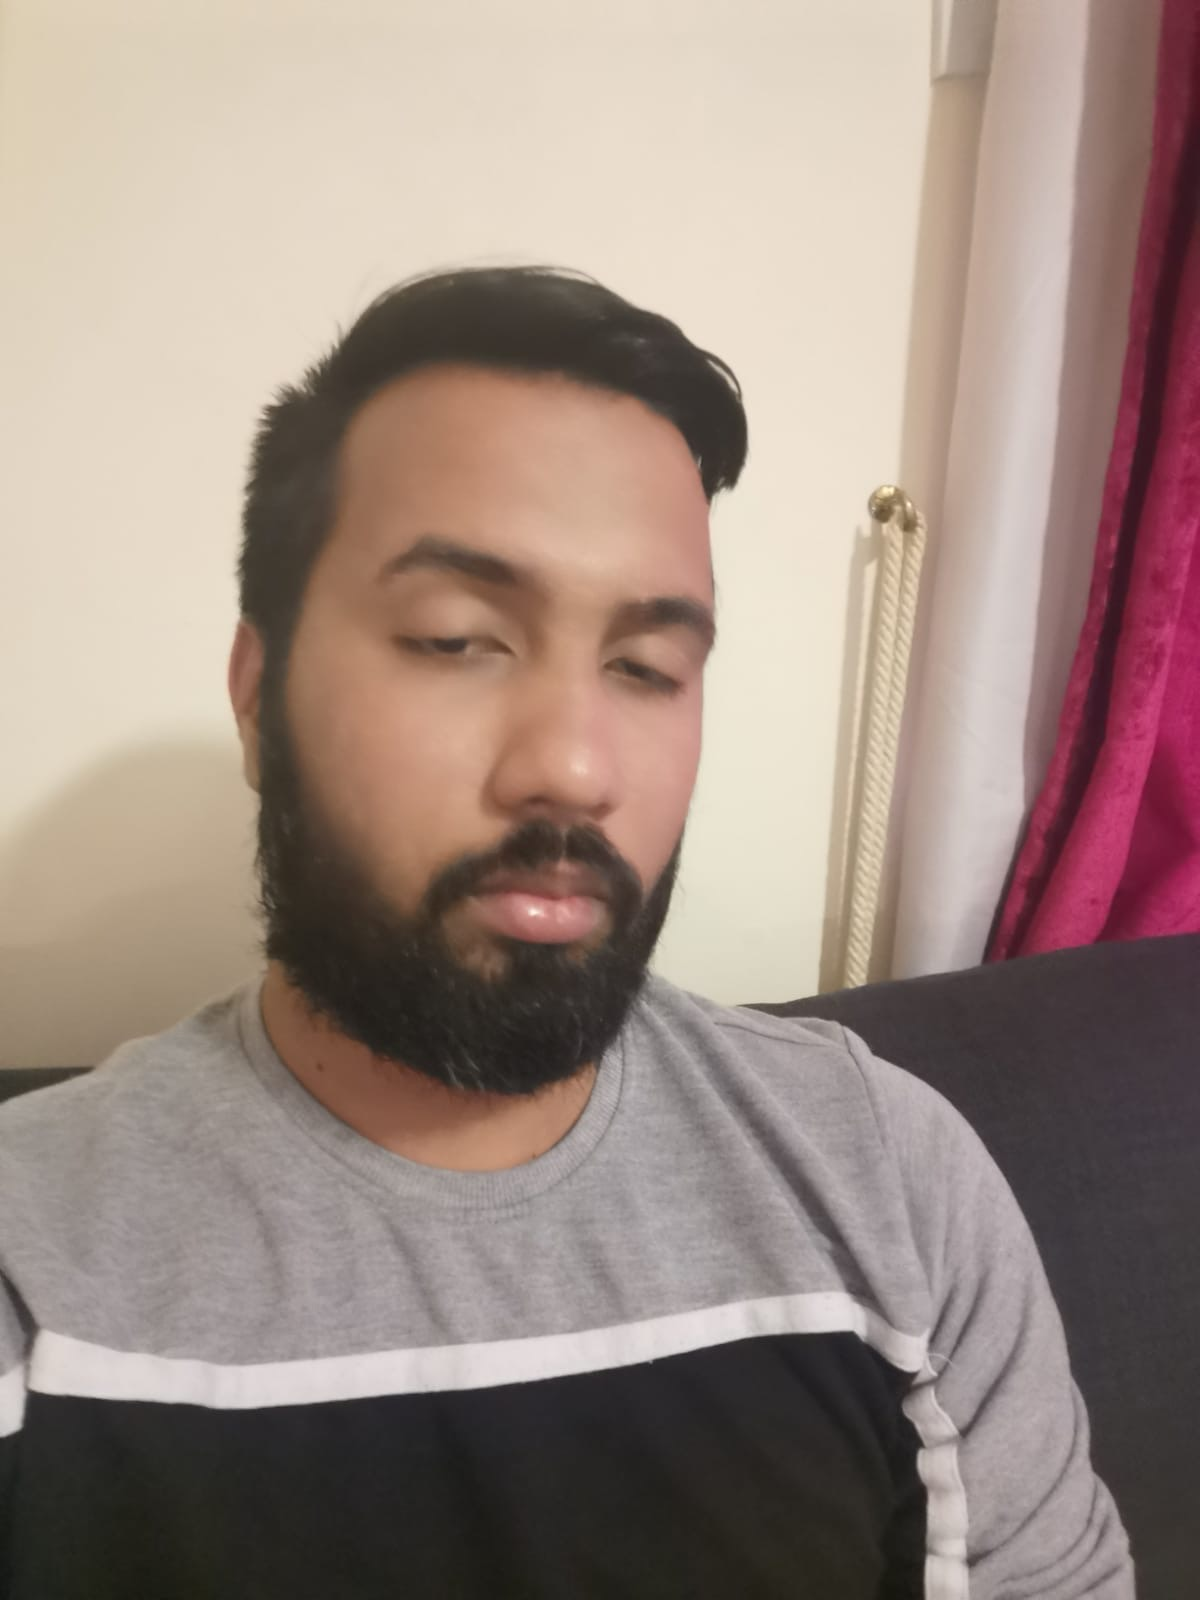Half Asleep: (345, 567, 718, 736)
